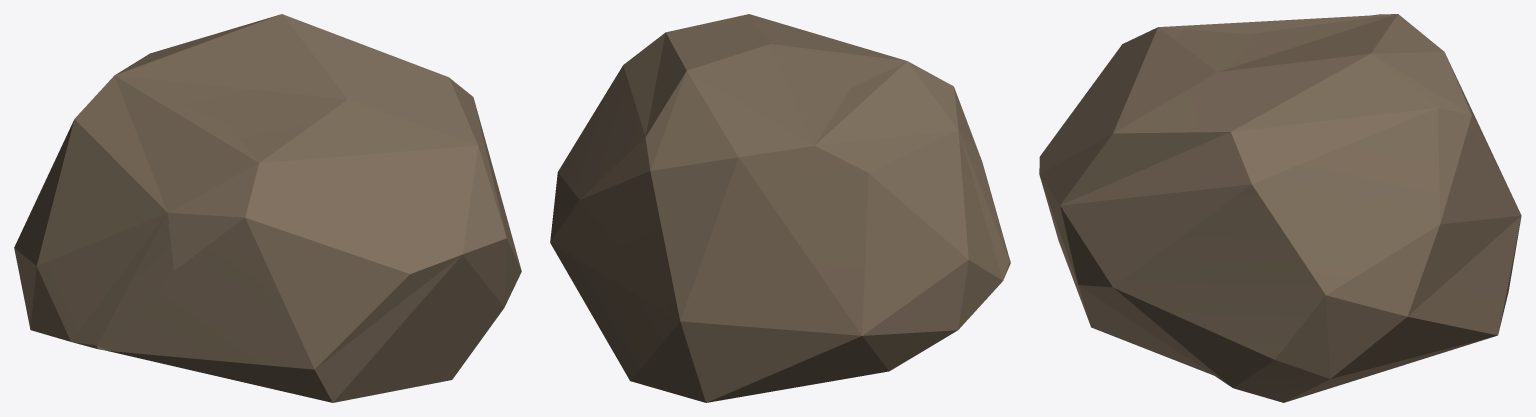
Rendered from Rock_6.fbx.
3 renders of one model, left to right at view 1: azimuth 30°, elevation 25°; view 2: azimuth 150°, elevation 25°; view 3: azimuth 270°, elevation 25°, orthographic. The views are drawn at different scales.
Visible parts, largest first — view 1: Rock_6; view 2: Rock_6; view 3: Rock_6.
Boxes of the visible parts, <box> form: Rock_6: <box>14,14,521,402</box>; Rock_6: <box>550,14,1010,402</box>; Rock_6: <box>1039,14,1521,402</box>.
Bounding box in the file's own units: 83.52 × 54.12 × 80.85.
